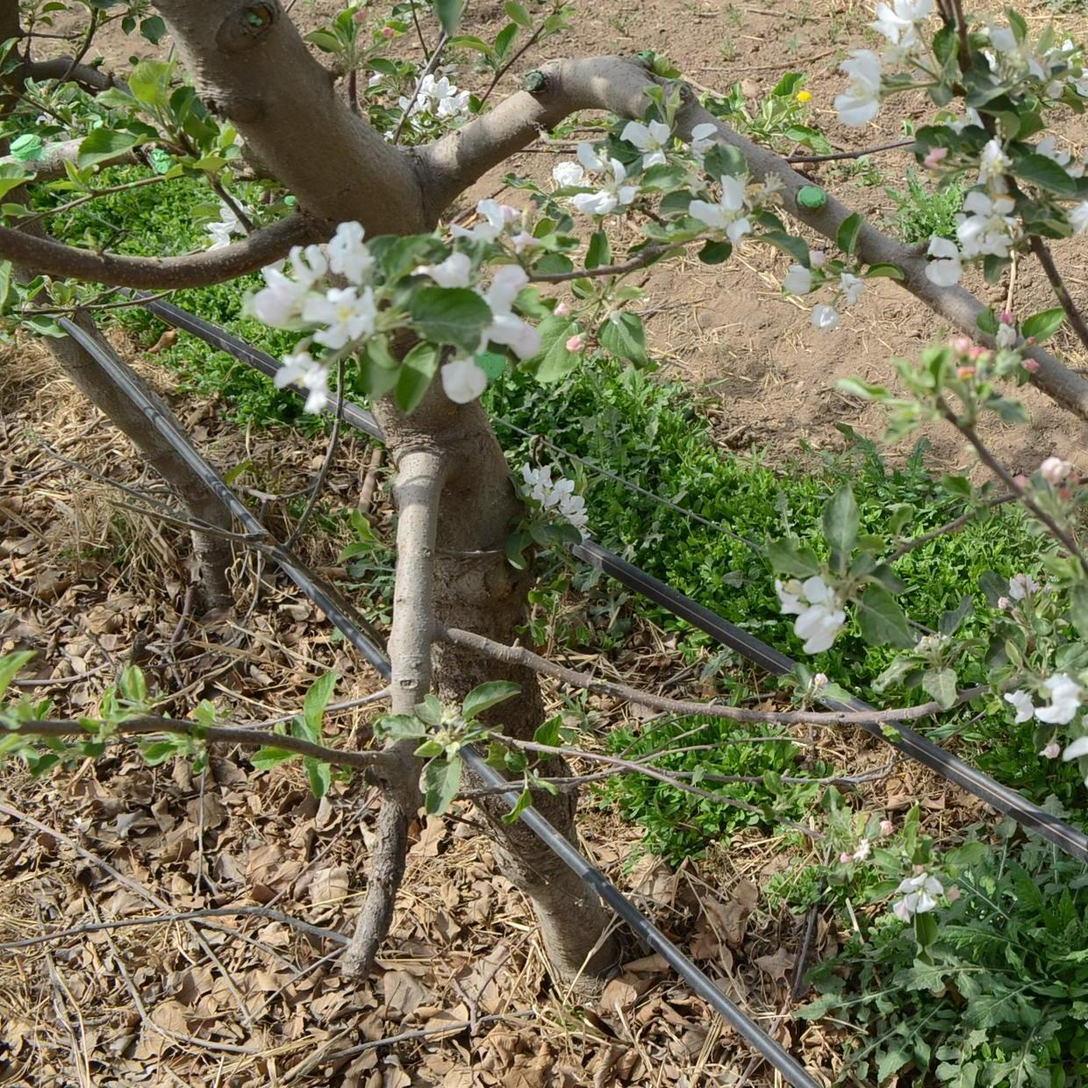apple_flower: (553, 118, 756, 247), (243, 221, 377, 412), (926, 131, 1025, 284), (478, 263, 539, 358), (775, 575, 845, 653), (519, 463, 586, 537), (1005, 673, 1087, 725), (870, 0, 934, 57), (834, 47, 881, 123), (397, 72, 469, 117), (1063, 672, 1088, 786), (439, 354, 485, 403), (1038, 132, 1088, 175), (431, 251, 465, 276), (1067, 197, 1088, 230)
